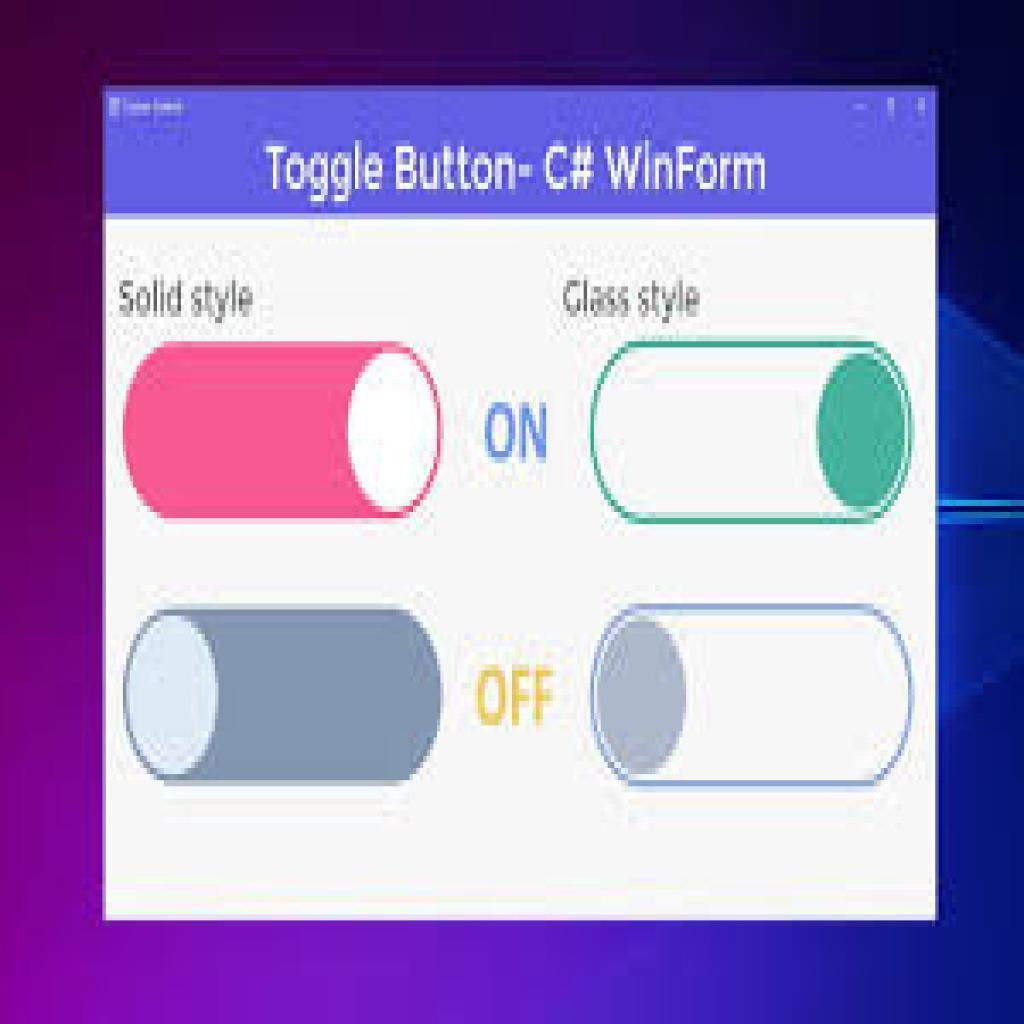switch: (585, 604, 916, 790), (591, 339, 916, 526), (124, 340, 444, 522), (125, 607, 442, 786)
